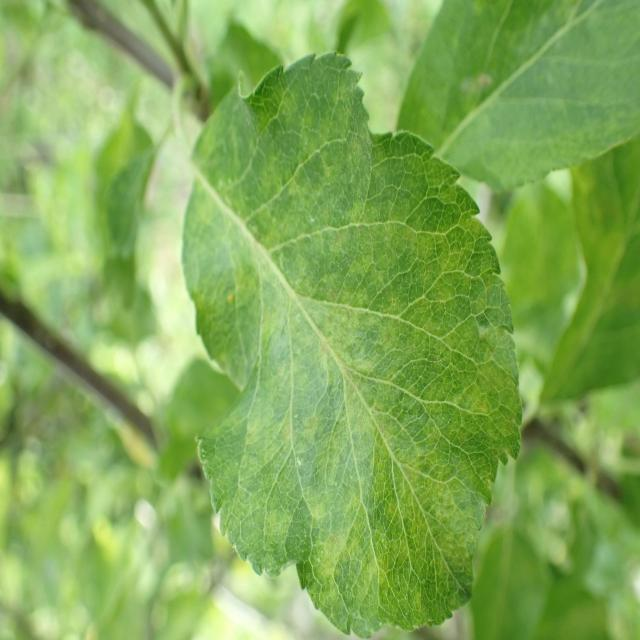scab: (179, 120, 431, 567)
